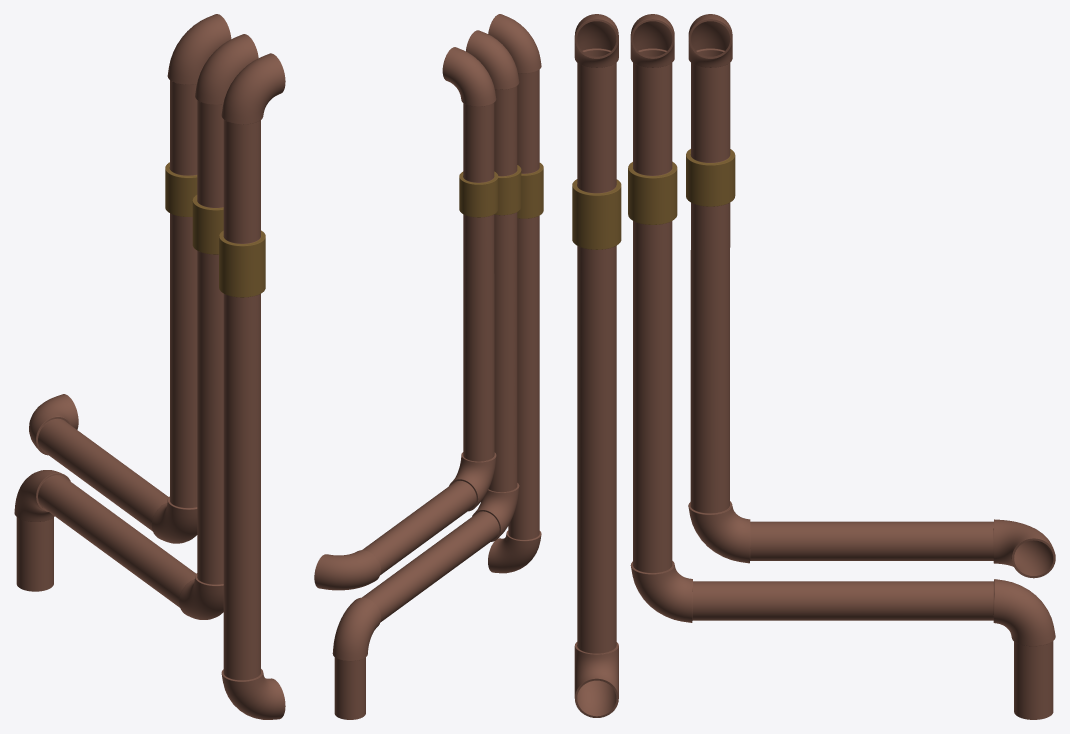
Rendered from Pipe04.fbx.
The picture shows the model from 3 angles, left to right: view 1: azimuth 30°, elevation 25°; view 2: azimuth 150°, elevation 25°; view 3: azimuth 270°, elevation 25°; orthographic projection. The views are drawn at different scales.
Visible parts, largest first — view 1: Pipe04_High (×2); view 2: Pipe04_High (×2); view 3: Pipe04_High (×2).
Boxes of the visible parts, x1,y1,x2,y2 form: Pipe04_High (×2): (14, 14, 285, 719); Pipe04_High (×2): (314, 14, 543, 719); Pipe04_High (×2): (572, 14, 1055, 719).
Bounding box in the file's own units: 0.6511 × 7.86 × 4.86.
